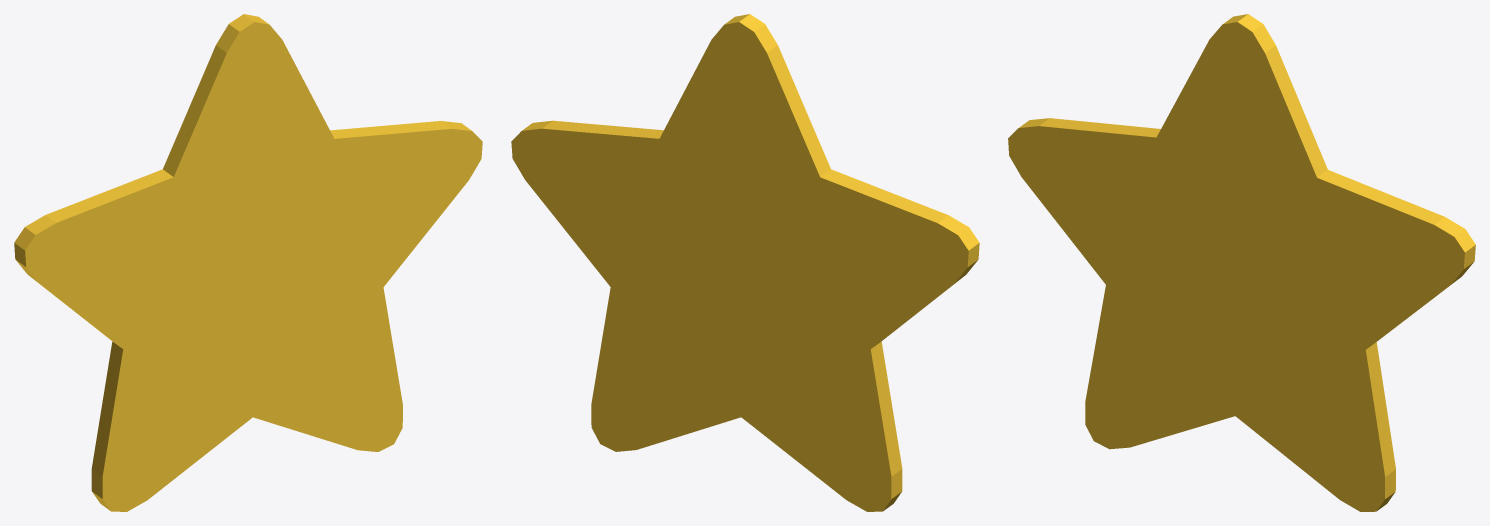
Rendered from Stars_2.fbx.
3 renders of one model, left to right at view 1: azimuth 30°, elevation 25°; view 2: azimuth 150°, elevation 25°; view 3: azimuth 330°, elevation 25°, orthographic.
Visible parts, largest first — view 1: Stars_2; view 2: Stars_2; view 3: Stars_2.
Part boxes in pixels (box(x1,y1,x2,y2)): Stars_2: box(14, 14, 482, 511); Stars_2: box(511, 14, 979, 511); Stars_2: box(1008, 14, 1475, 511).
Bounding box in the file's own units: 0.3543 × 0.3406 × 0.0151.
